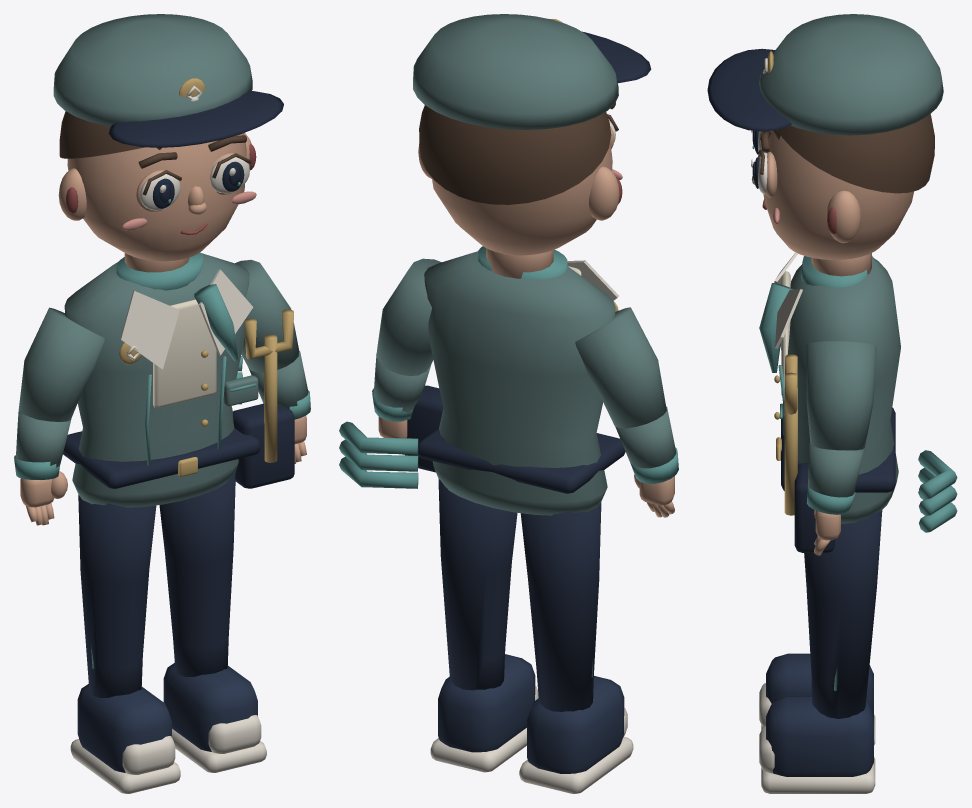
Rendered from npc_hexruins_trainer_1.glb.
3 views of the same model, side by side, from view 1: azimuth 30°, elevation 25°; view 2: azimuth 150°, elevation 25°; view 3: azimuth 270°, elevation 25° (orthographic). The views are drawn at different scales.
Visible parts, largest first — view 1: figure.060; view 2: figure.060; view 3: figure.060.
Part boxes in pixels (left/top/right/bottom): figure.060: left=14, top=14, right=310, bottom=793; figure.060: left=339, top=14, right=678, bottom=793; figure.060: left=707, top=14, right=957, bottom=793.
Bounding box in the file's own units: 0.6711 × 1.58 × 0.4945.
